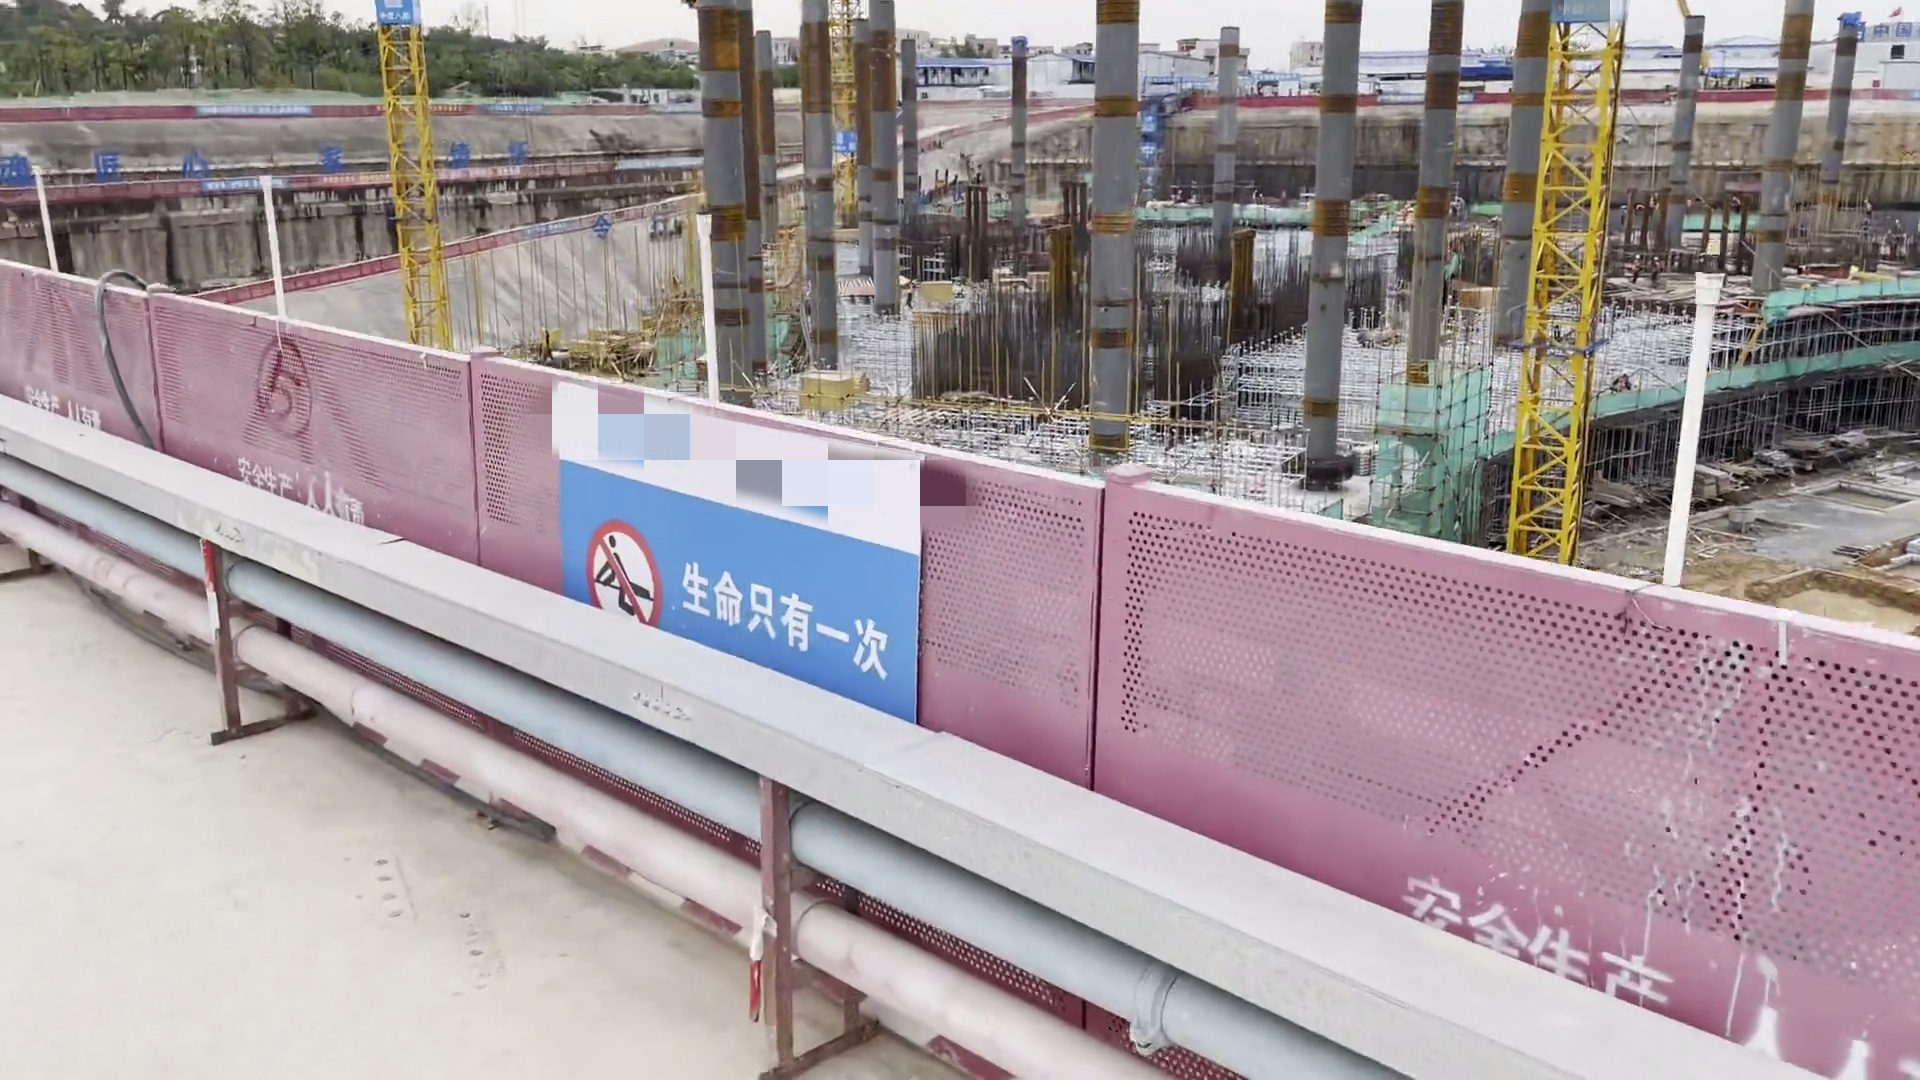brick: (1838, 480, 1905, 501)
fence: (1193, 496, 1920, 1080), (326, 327, 856, 745), (827, 422, 1211, 858), (3, 255, 353, 518)
scaffold: (1341, 443, 1387, 476)
slogan: (518, 367, 957, 752), (1534, 1, 1642, 49), (1134, 100, 1164, 193), (363, 1, 438, 34), (1851, 11, 1920, 44), (829, 117, 876, 165)
wood: (798, 368, 873, 411), (920, 280, 953, 303)
